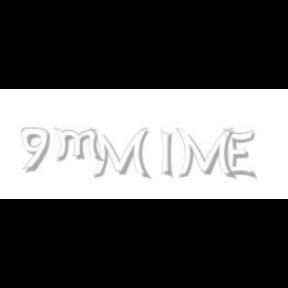9: (20, 128, 50, 172)
E: (223, 128, 256, 180)
I: (161, 128, 174, 180)
M: (91, 128, 150, 180), (176, 128, 234, 180)
m: (53, 128, 105, 162)
